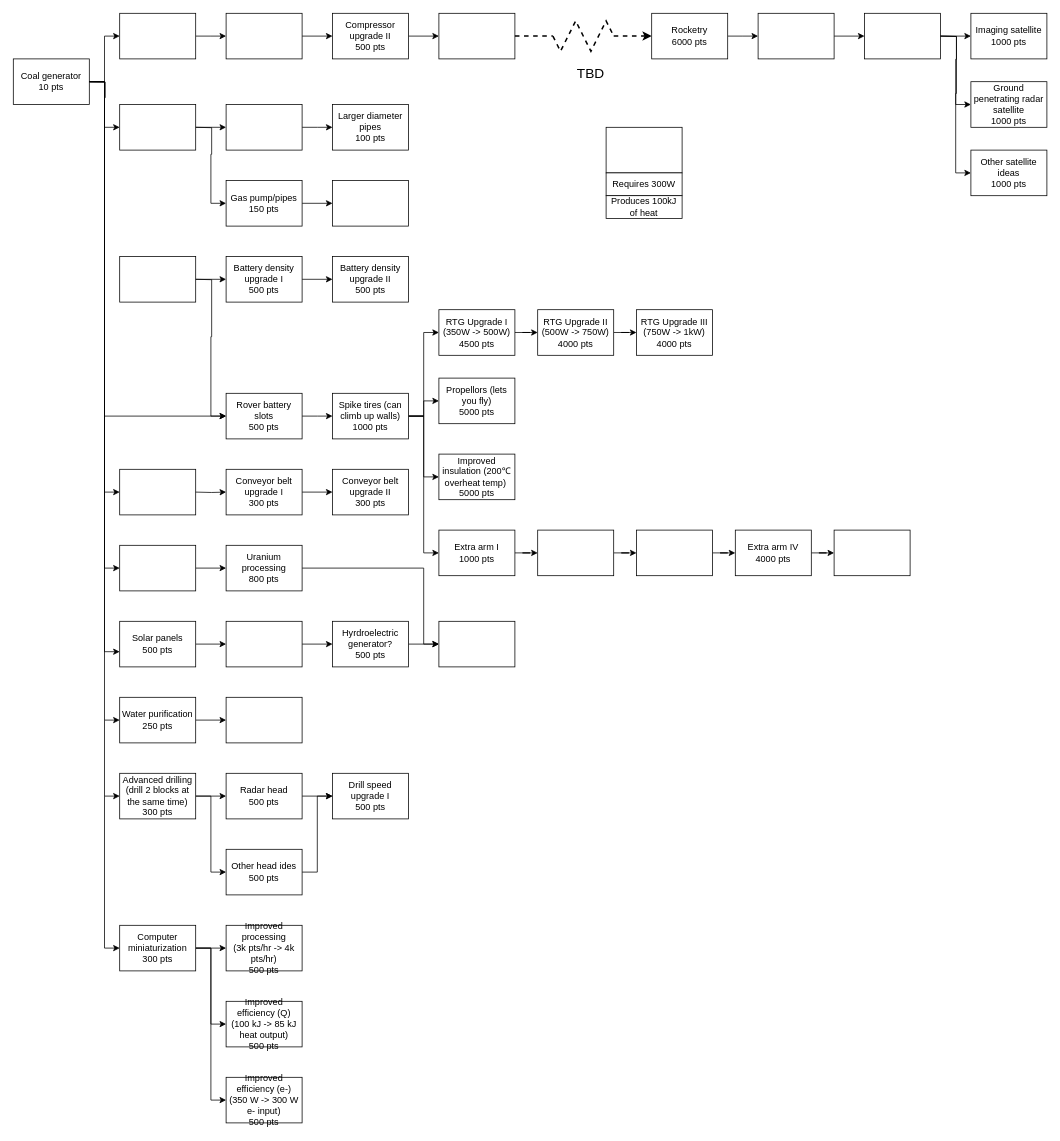
This 1060x1141 diagram has some shape labels left out. The shapes that lost their labels are listed below. From the top down, each one's box as (x1, y1, x2, y2) in pixels, then its label:
(119, 13, 196, 59): Mass Compressor 50 pts
(225, 13, 302, 59): Compressor upgrade I 200 pts
(438, 13, 515, 59): Molecular incinerator 1000 pts
(757, 13, 834, 59): Ground infrastructure 5000 pts
(864, 13, 940, 59): Communication satellite (victory) 8000 pts
(119, 104, 196, 150): Radiator 100 pts
(225, 104, 302, 150): Liquid pump/pipes 150 pts
(605, 127, 682, 173): Base computer module generates 3000 pts/hr
(332, 180, 408, 226): Airlock doors 300 pts
(119, 256, 196, 302): Batteries 100 pts
(119, 469, 196, 515): Conveyor belt 100 pts
(119, 545, 196, 591): Fabrication 100 pts
(537, 529, 614, 576): Extra arm II 2000 pts
(636, 529, 712, 576): Extra arm III 3000 pts
(833, 529, 910, 576): Extra arm V 5000 pts
(225, 621, 302, 667): Geothermal generator 500 pts
(438, 621, 515, 667): Nuclear generator 1200 pts
(225, 697, 302, 743): Water electrolysis (H2O -> 2H + O) 500 pts
